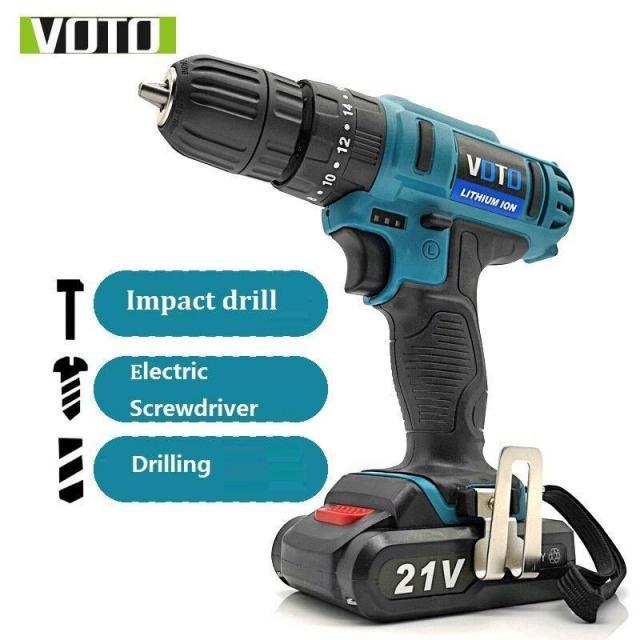drill: (137, 54, 578, 622)
